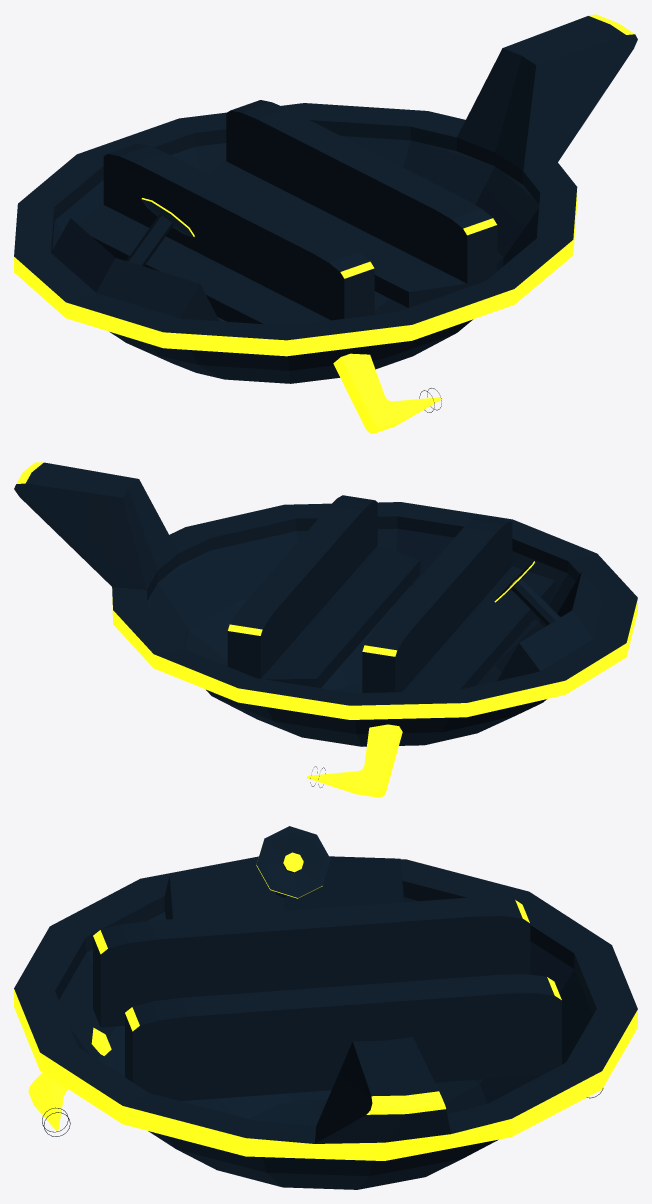
Rendered from HideAndSeek_Asset_Home.glb.
3 renders of one model, top to bottom at view 1: azimuth 30°, elevation 25°; view 2: azimuth 150°, elevation 25°; view 3: azimuth 270°, elevation 25°, orthographic. The views are drawn at different scales.
Parts seen in each view (by area): view 1: car top part; view 2: car top part; view 3: car top part.
Boxes of the visible parts, x1=… form: car top part: x1=14, y1=14, x2=637, y2=433; car top part: x1=14, y1=462, x2=637, y2=797; car top part: x1=14, y1=826, x2=637, y2=1189.
Size of what is drawn, in the model's own units: 6.28 by 2.11 by 4.76.
